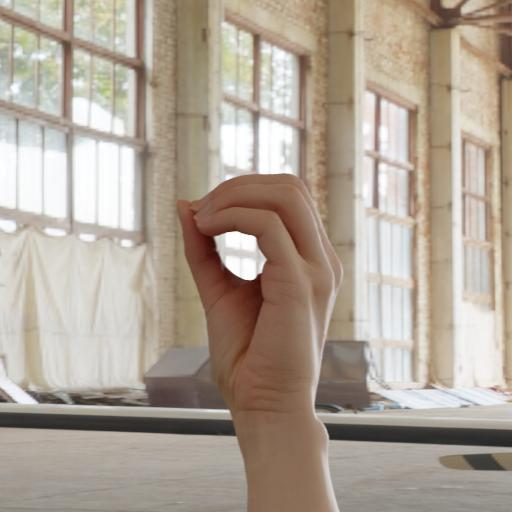O: (152, 137, 420, 424)
